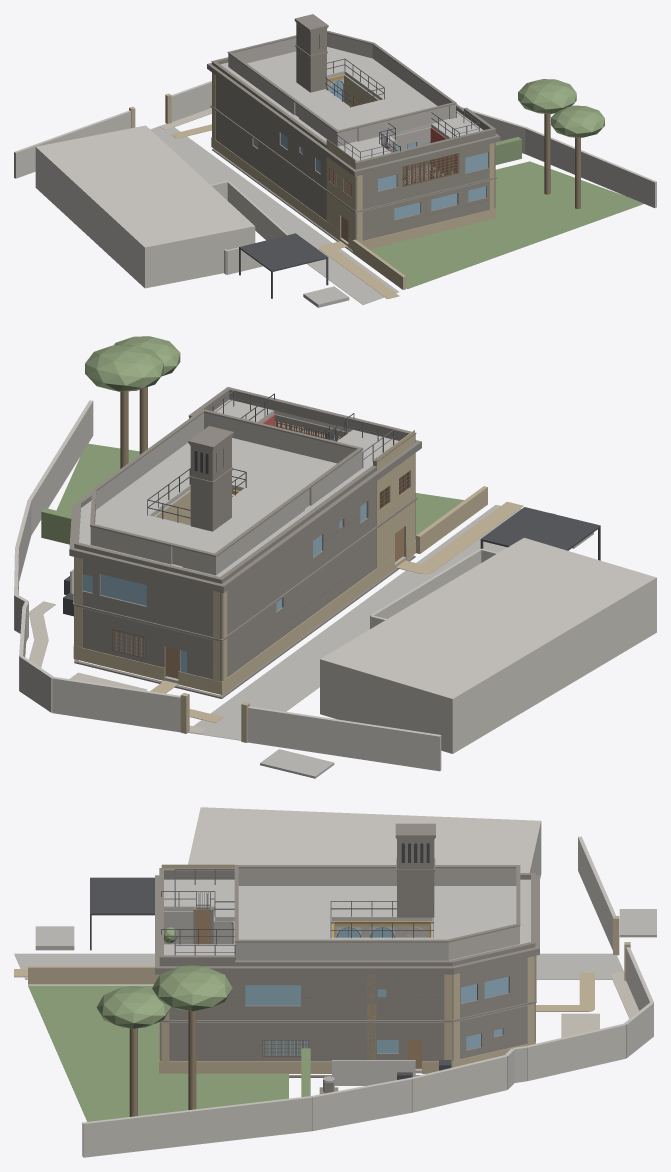
Rendered from taif_house_V10.0.glb.
3 renders of one model, top to bottom at view 1: azimuth 30°, elevation 25°; view 2: azimuth 150°, elevation 25°; view 3: azimuth 270°, elevation 25°, orthographic. The views are drawn at different scales.
Visible parts, largest first — view 1: chr_site_plaster_old_house, chr_site_foliage_garden, roof_finish_floor, roof_attic_wall, chr_site_plaster_farm_wall_north_east, chr_site_concrete_driveway, gf_outer, ff_outer, chr_base_honey_plinth, roof_cornice, chr_site_steel_old_carport, chr_site_plaster_old_annex (+22 smaller); view 2: chr_site_plaster_old_house, roof_finish_floor, chr_site_plaster_farm_wall_north_east, ff_outer, roof_attic_wall, gf_outer, chr_site_concrete_driveway, chr_site_plaster_farm_wall_north, chr_base_honey_plinth, roof_cornice, chr_base_honey_feature_wall_00, chr_site_foliage_garden (+27 smaller); view 3: chr_site_plaster_farm_wall_north_east, chr_site_plaster_old_house, roof_finish_floor, chr_site_foliage_garden, roof_attic_wall, gf_outer, ff_outer, chr_site_concrete_driveway, roof_cornice, chr_site_foliage_palm_1_crown, roof_attic_coping, chr_base_honey_plinth (+32 smaller).
Part boxes in pixels (box(x1,y1,x2,y2)): chr_site_plaster_old_house: box(35, 125, 255, 288); chr_site_foliage_garden: box(369, 161, 643, 288); roof_finish_floor: box(220, 47, 483, 160); roof_attic_wall: box(228, 33, 456, 146); chr_site_plaster_farm_wall_north_east: box(171, 81, 656, 207); chr_site_concrete_driveway: box(150, 124, 398, 304); gf_outer: box(212, 108, 495, 240); ff_outer: box(212, 73, 495, 210); chr_base_honey_plinth: box(211, 137, 496, 249); roof_cornice: box(207, 63, 500, 176); chr_site_steel_old_carport: box(239, 233, 328, 298); chr_site_plaster_old_annex: box(211, 181, 288, 274); chr_site_plaster_old_house: box(320, 537, 656, 753); roof_finish_floor: box(79, 399, 398, 576); chr_site_plaster_farm_wall_north_east: box(14, 400, 180, 732); ff_outer: box(74, 422, 415, 639); roof_attic_wall: box(90, 412, 362, 575); gf_outer: box(74, 501, 415, 681); chr_site_concrete_driveway: box(188, 505, 555, 740); chr_site_plaster_farm_wall_north: box(247, 706, 441, 771); chr_base_honey_plinth: box(73, 540, 415, 694); roof_cornice: box(69, 440, 421, 593); chr_base_honey_feature_wall_00: box(376, 430, 414, 568); chr_site_foliage_garden: box(56, 443, 464, 539); chr_site_plaster_farm_wall_north_east: box(82, 947, 653, 1157); chr_site_plaster_old_house: box(188, 807, 541, 878); roof_finish_floor: box(164, 879, 530, 960); chr_site_foliage_garden: box(28, 985, 288, 1121); roof_attic_wall: box(235, 868, 519, 960); gf_outer: box(159, 1004, 535, 1060); ff_outer: box(180, 956, 535, 1019); chr_site_concrete_driveway: box(14, 953, 624, 979); roof_cornice: box(155, 875, 539, 974); chr_site_foliage_palm_1_crown: box(152, 965, 232, 1011); roof_attic_coping: box(234, 865, 520, 942); chr_base_honey_plinth: box(159, 1022, 535, 1073).
Size of the model in its own units: 45.39 by 13.85 by 41.5.
